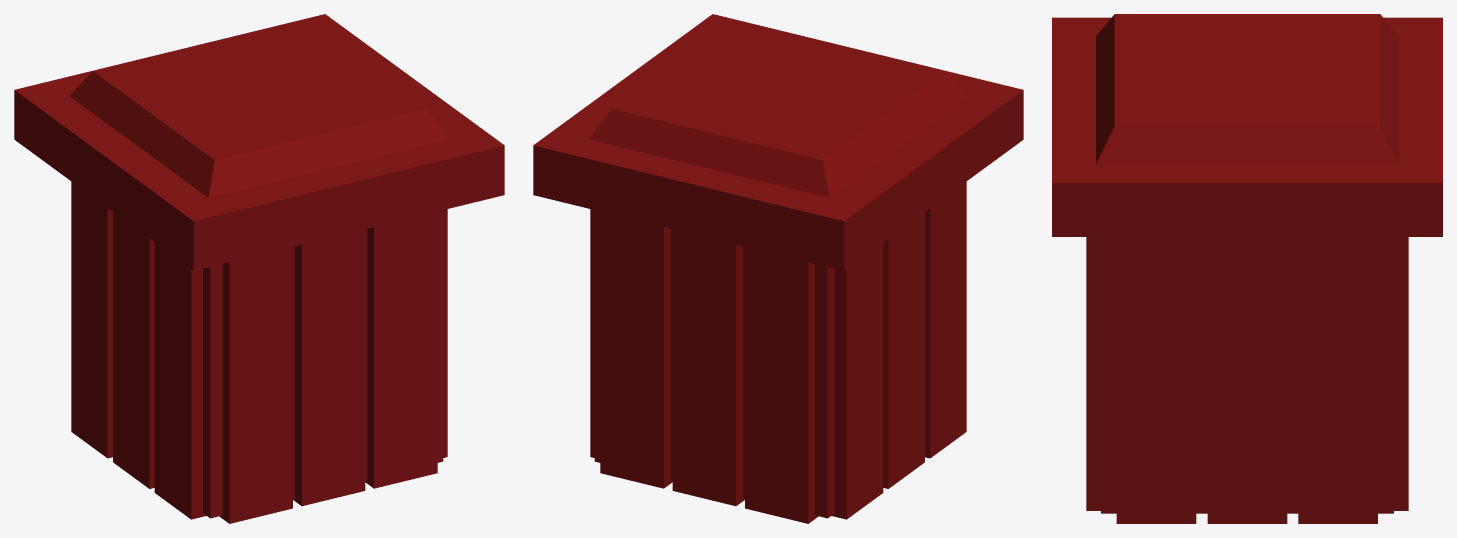
Rendered from Model_Undead_BlockPart.fbx.
3 views of the same model, side by side, from view 1: azimuth 30°, elevation 25°; view 2: azimuth 150°, elevation 25°; view 3: azimuth 270°, elevation 25° (orthographic). The views are drawn at different scales.
Visible parts, largest first — view 1: Model_Frost_Obstacle; view 2: Model_Frost_Obstacle; view 3: Model_Frost_Obstacle.
Boxes of the visible parts, left/top/right/bottom form: Model_Frost_Obstacle: left=14, top=14, right=504, bottom=523; Model_Frost_Obstacle: left=533, top=14, right=1023, bottom=523; Model_Frost_Obstacle: left=1052, top=14, right=1442, bottom=523.
Bounding box in the file's own units: 200 × 218 × 200.
